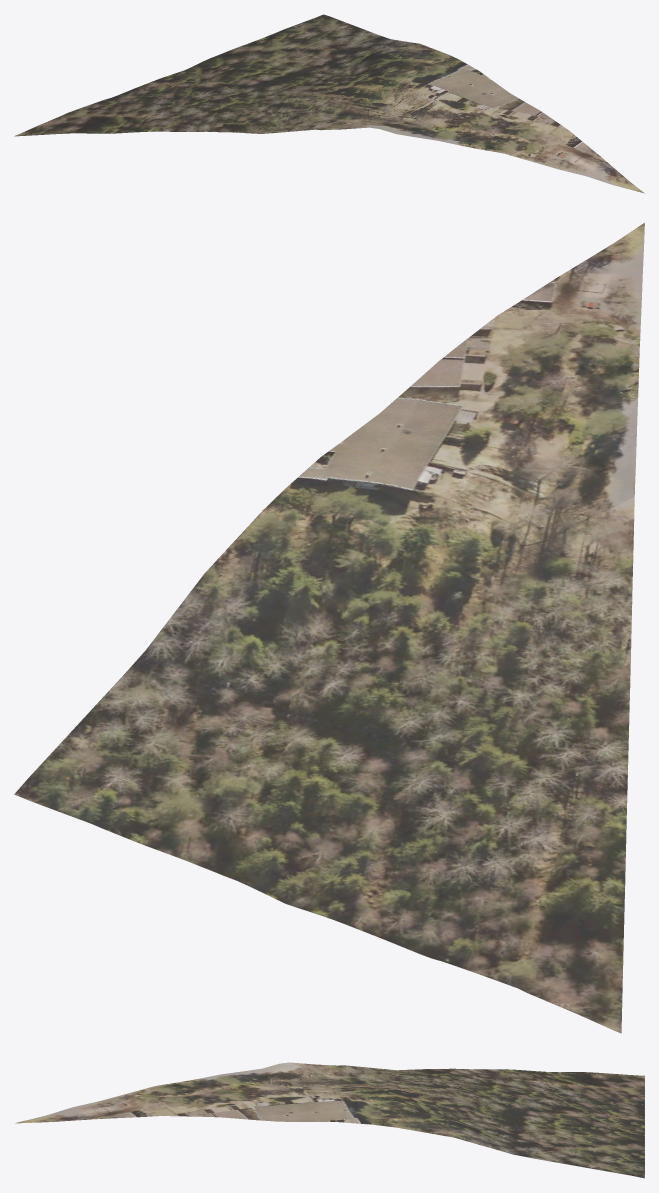
Rendered from CM_Terrain_24490663_6816108.fbx.
3 views of the same model, one above another, from view 1: azimuth 30°, elevation 25°; view 2: azimuth 150°, elevation 25°; view 3: azimuth 270°, elevation 25° (orthographic). The views are drawn at different scales.
Visible parts, largest first — view 1: CM_Terrain_24490663_6816108_LOD0; view 2: CM_Terrain_24490663_6816108_LOD0; view 3: CM_Terrain_24490663_6816108_LOD0.
Part boxes in pixels (x1,y1,x2,y2): CM_Terrain_24490663_6816108_LOD0: (14,14,644,193); CM_Terrain_24490663_6816108_LOD0: (14,222,644,1033); CM_Terrain_24490663_6816108_LOD0: (15,1062,644,1178).
Size of what is drawn, in the model's own units: 89.72 by 30.46 by 161.
